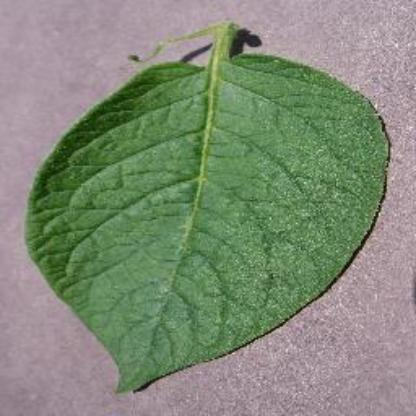Healthy-plant: (26, 18, 388, 394)
